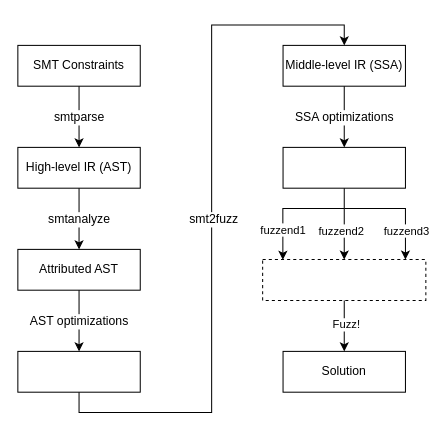
Some shapes in this 447 by 439 pixel diagram are drawn without their labels. Here are the shapes that lost their labels. From the top down, the box of each, then its label:
(282, 146, 405, 188): Optimized SSA
(262, 259, 426, 300): LibFuzzer, AFL, ...
(17, 350, 140, 392): Optimized AST
